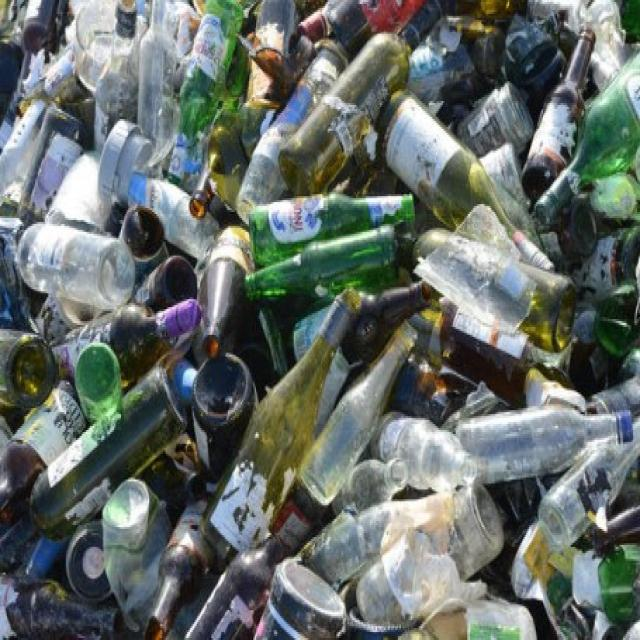electronic: (238, 182, 417, 303)
